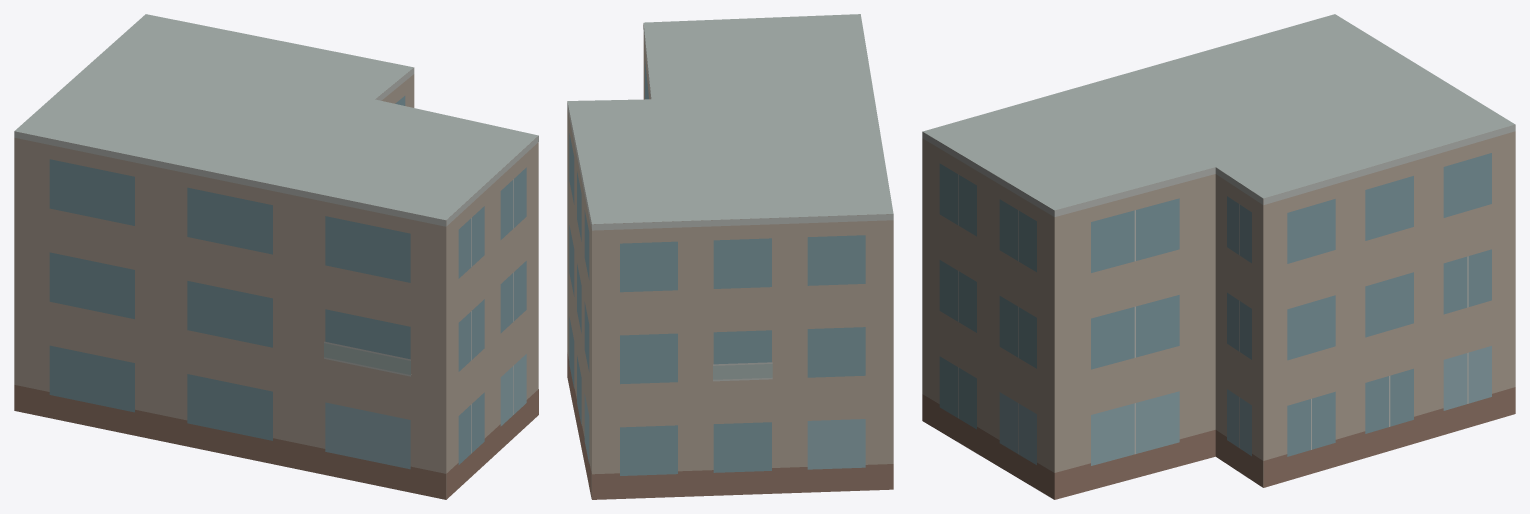
Rendered from survey-upis-33038594.glb.
The picture shows the model from 3 angles, left to right: view 1: azimuth 30°, elevation 25°; view 2: azimuth 150°, elevation 25°; view 3: azimuth 270°, elevation 25°; orthographic projection. The views are drawn at different scales.
Parts seen in each view (by area): view 1: survey-upis-33038594.tmp; view 2: survey-upis-33038594.tmp; view 3: survey-upis-33038594.tmp.
Boxes of the visible parts, <box> form: survey-upis-33038594.tmp: <box>14,14,538,499</box>; survey-upis-33038594.tmp: <box>567,14,893,499</box>; survey-upis-33038594.tmp: <box>922,14,1515,499</box>.
Size of the model in its own units: 15.37 by 10.55 by 19.61.
